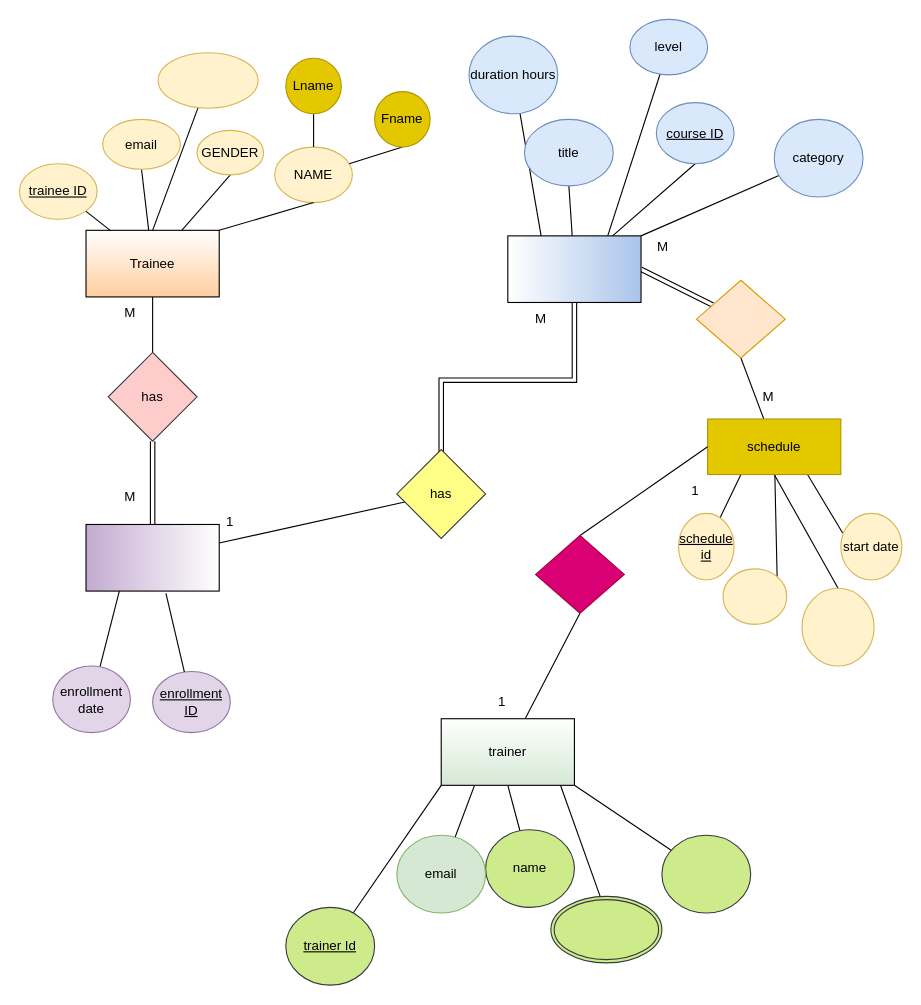
Some shapes in this 921 by 1005 pixel diagram are drawn without their labels. Each missing label, with the centre of its shape:
"background" goes at pixel 207 80.
"check" goes at pixel 579 573.
"course" goes at pixel 574 268.
"end date" goes at pixel 754 596.
"enrollment" goes at pixel 152 557.
"offer" goes at pixel 740 318.
"PHONE" goes at pixel 606 929.
"specialty" goes at pixel 706 873.
"time slot" goes at pixel 837 626.
